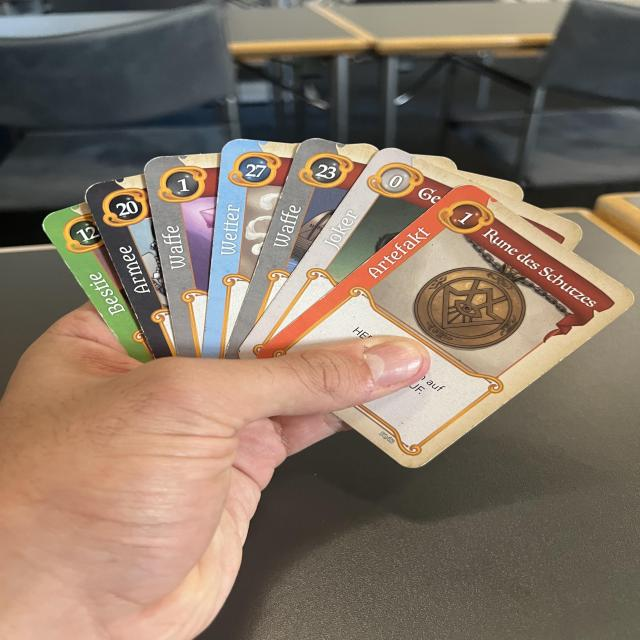Hydra: (38, 202, 153, 364)
Knights: (84, 175, 180, 359)
Magic Wand: (146, 153, 221, 356)
Rune Of Protection: (255, 182, 639, 474)
Shapeshifter: (237, 145, 468, 349)
Smoke: (200, 137, 298, 359)
Warship: (225, 136, 378, 351)
